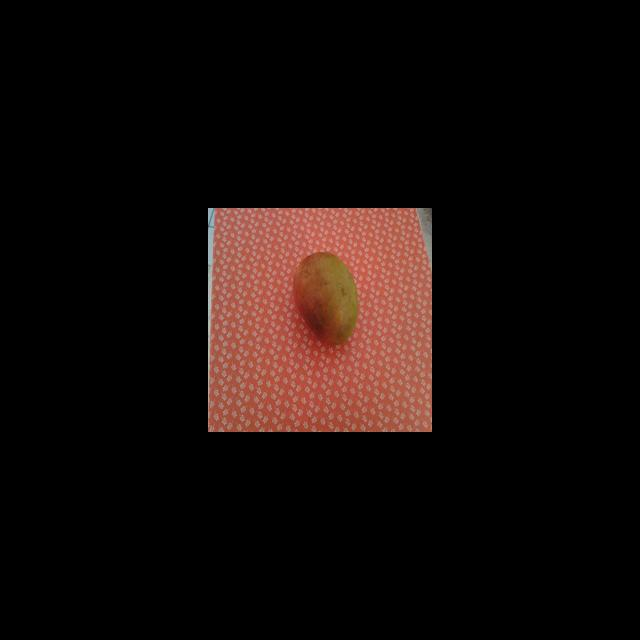Mango: (208, 208, 431, 431), (292, 251, 358, 346)
